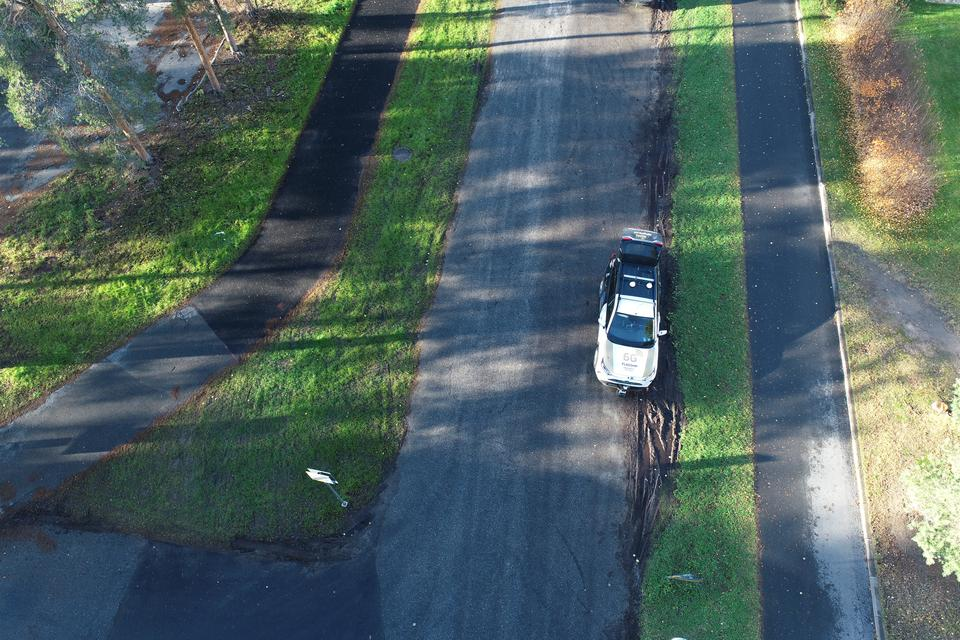intersection: (0, 325, 699, 640)
